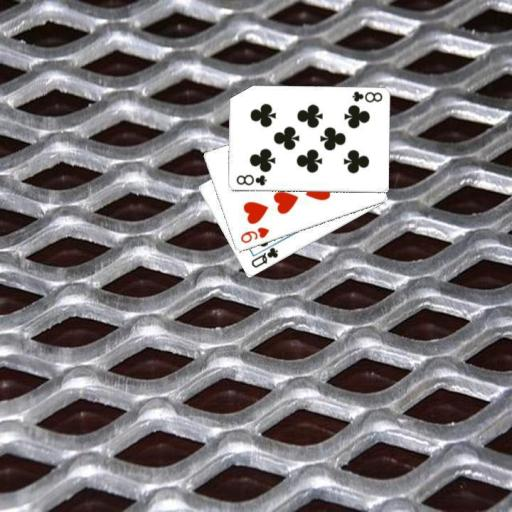card-corner: (248, 244, 280, 270), (237, 224, 271, 245), (348, 88, 384, 105), (234, 172, 268, 187)
